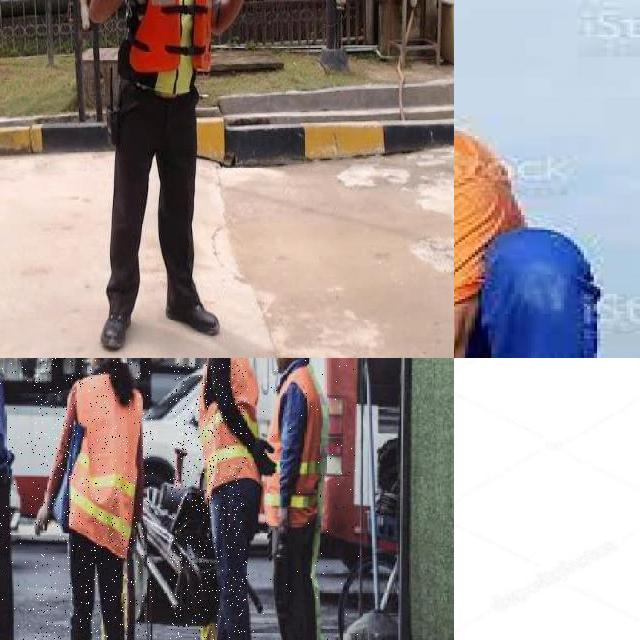boots: (162, 292, 223, 343), (99, 302, 136, 355)
person: (68, 0, 272, 358), (454, 0, 635, 358), (35, 358, 153, 640), (170, 358, 287, 640), (247, 358, 359, 640), (0, 358, 36, 640)
vest: (67, 375, 144, 560), (263, 364, 332, 527), (118, 0, 218, 102), (199, 358, 262, 506)
